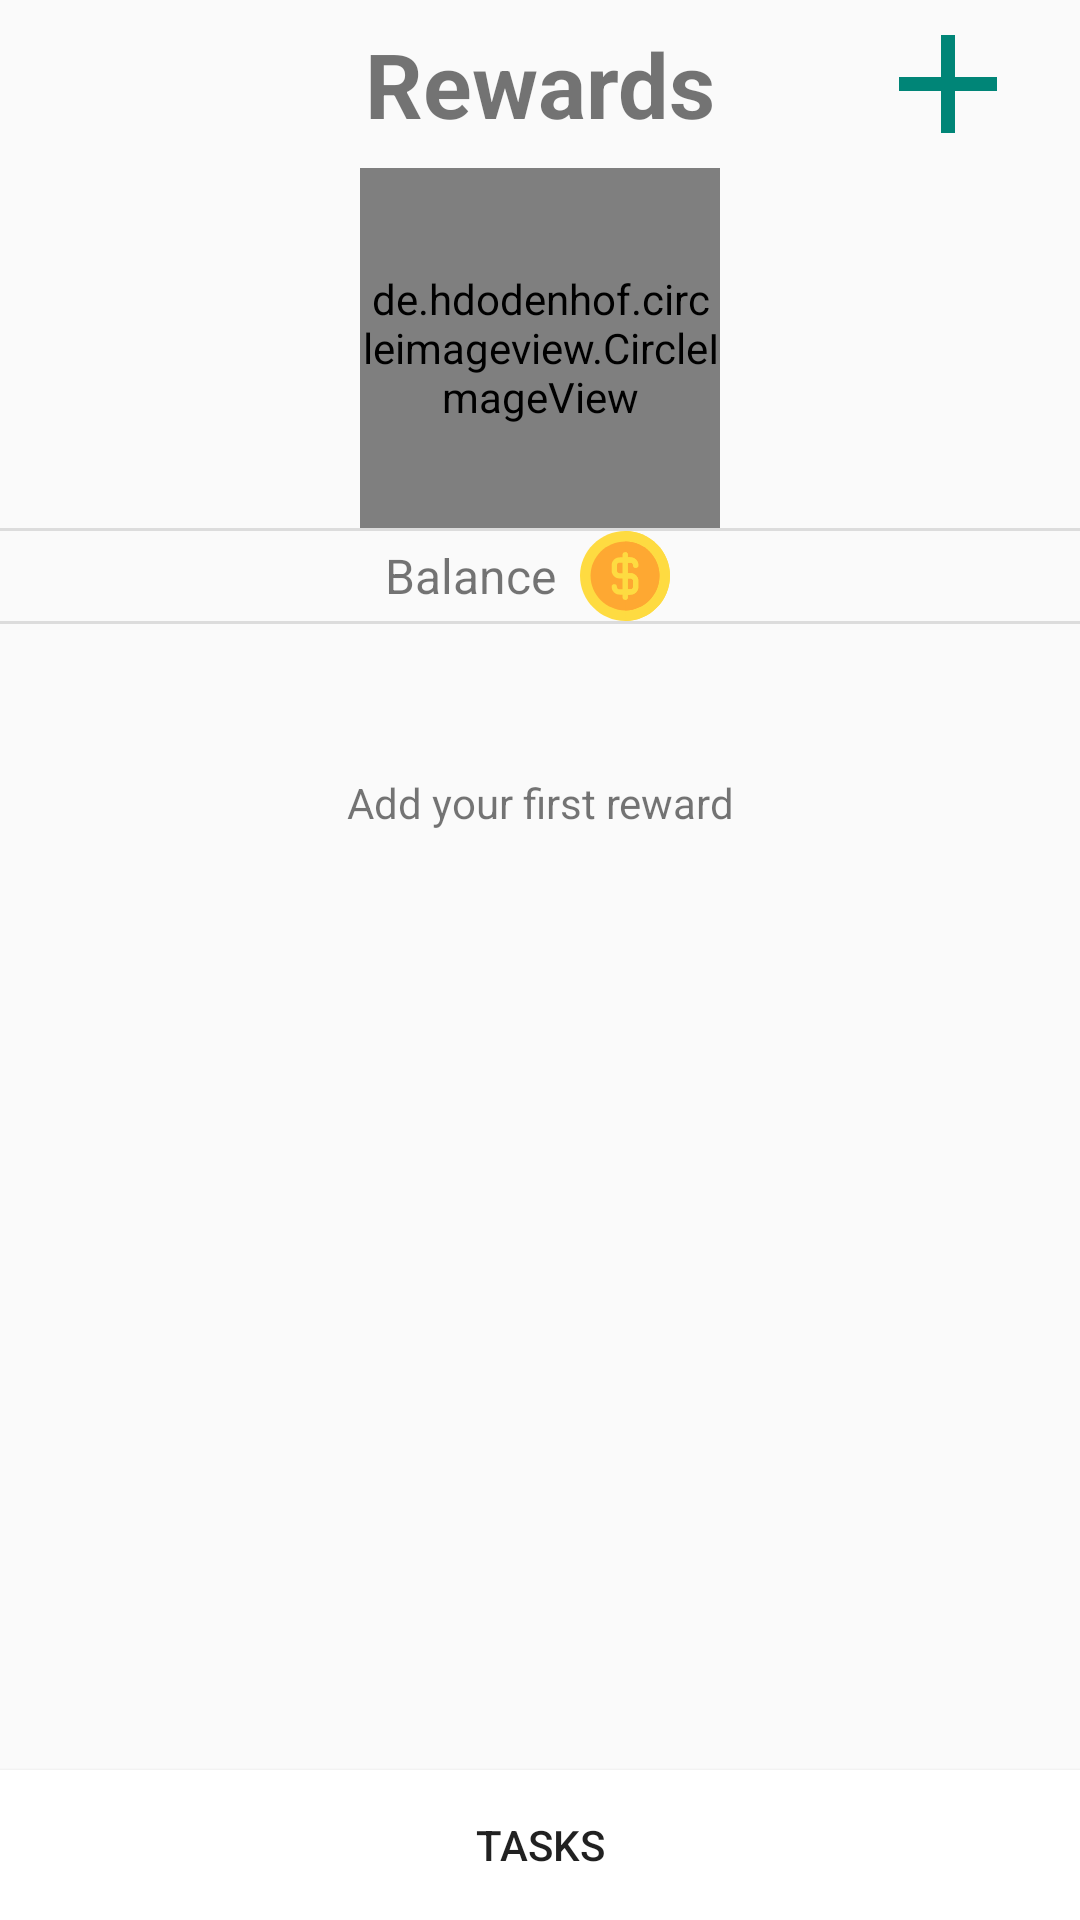

Icons on this 1080×1920 Android screen, each with its box as (x1, y1, x2, y2):
add: (899, 35, 997, 133)
